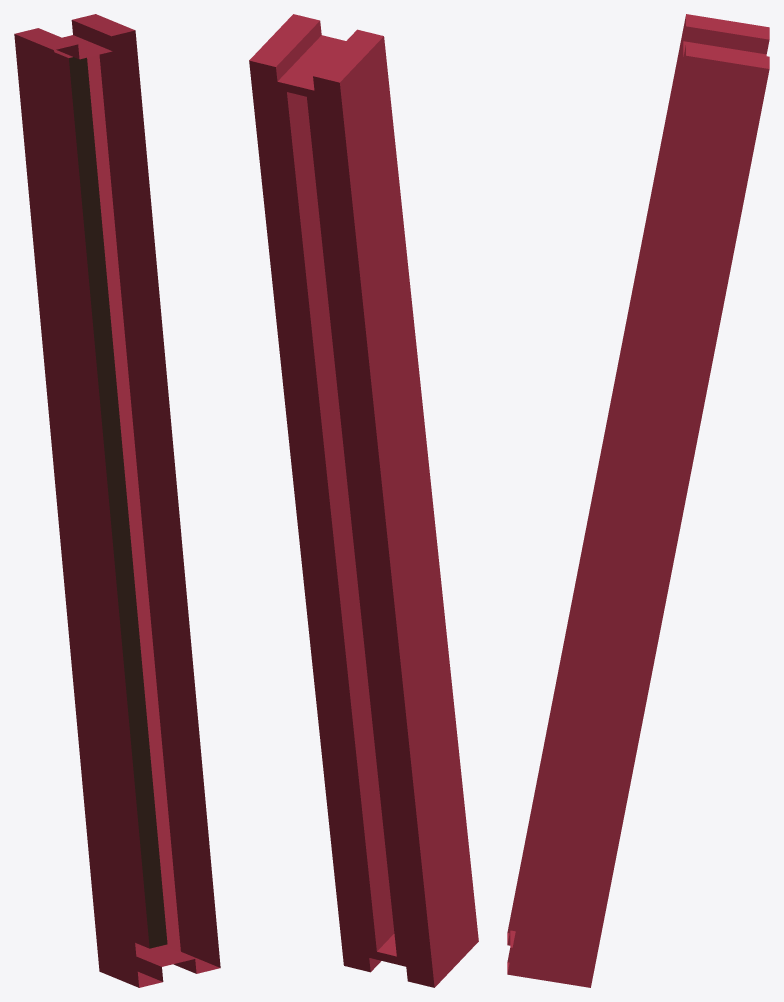
Rendered from SM_RAMSupport.fbx.
The picture shows the model from 3 angles, left to right: view 1: azimuth 30°, elevation 25°; view 2: azimuth 150°, elevation 25°; view 3: azimuth 270°, elevation 25°; orthographic projection. The views are drawn at different scales.
Visible parts, largest first — view 1: RamSupport; view 2: RamSupport; view 3: RamSupport.
Boxes of the visible parts, x1,y1,x2,y2 form: RamSupport: (14,14,220,987); RamSupport: (249,14,478,987); RamSupport: (507,14,769,987).
Size of the model in its own units: 0.1655 by 1.72 by 0.4395.
